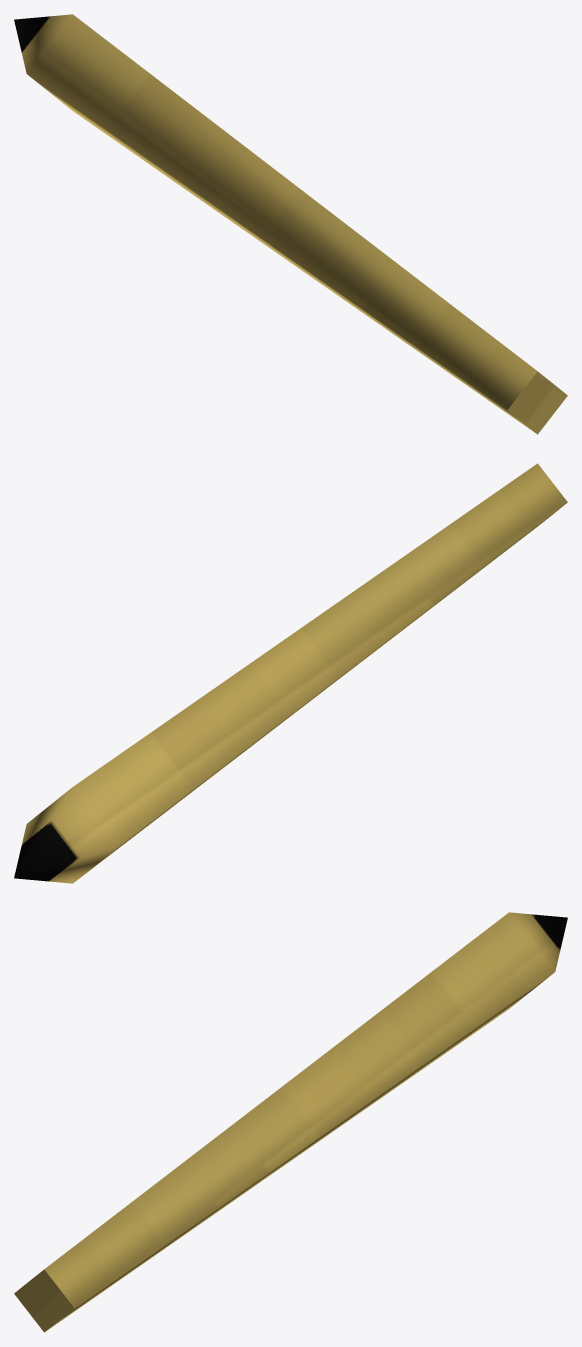
File: Desktop_Clutter_Pen.fbx
The picture shows the model from 3 angles, top to bottom: view 1: azimuth 30°, elevation 25°; view 2: azimuth 150°, elevation 25°; view 3: azimuth 330°, elevation 25°; orthographic projection.
Visible parts, largest first — view 1: Pen; view 2: Pen; view 3: Pen.
Part boxes in pixels (left/top/right/bottom): Pen: left=14, top=14, right=567, bottom=434; Pen: left=14, top=463, right=567, bottom=883; Pen: left=14, top=912, right=567, bottom=1332.
Bounding box in the file's own units: 2 × 2 × 19.65.
